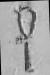S34: (3, 0, 47, 74)
